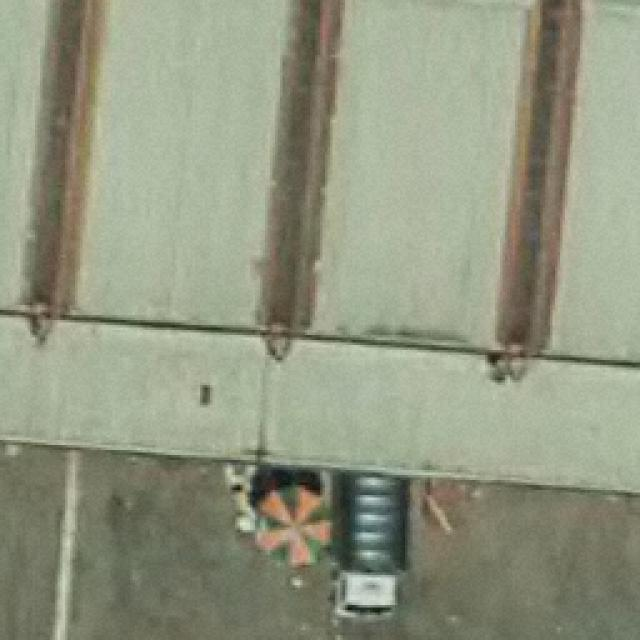vendedor_ambulante: (246, 471, 343, 574)
